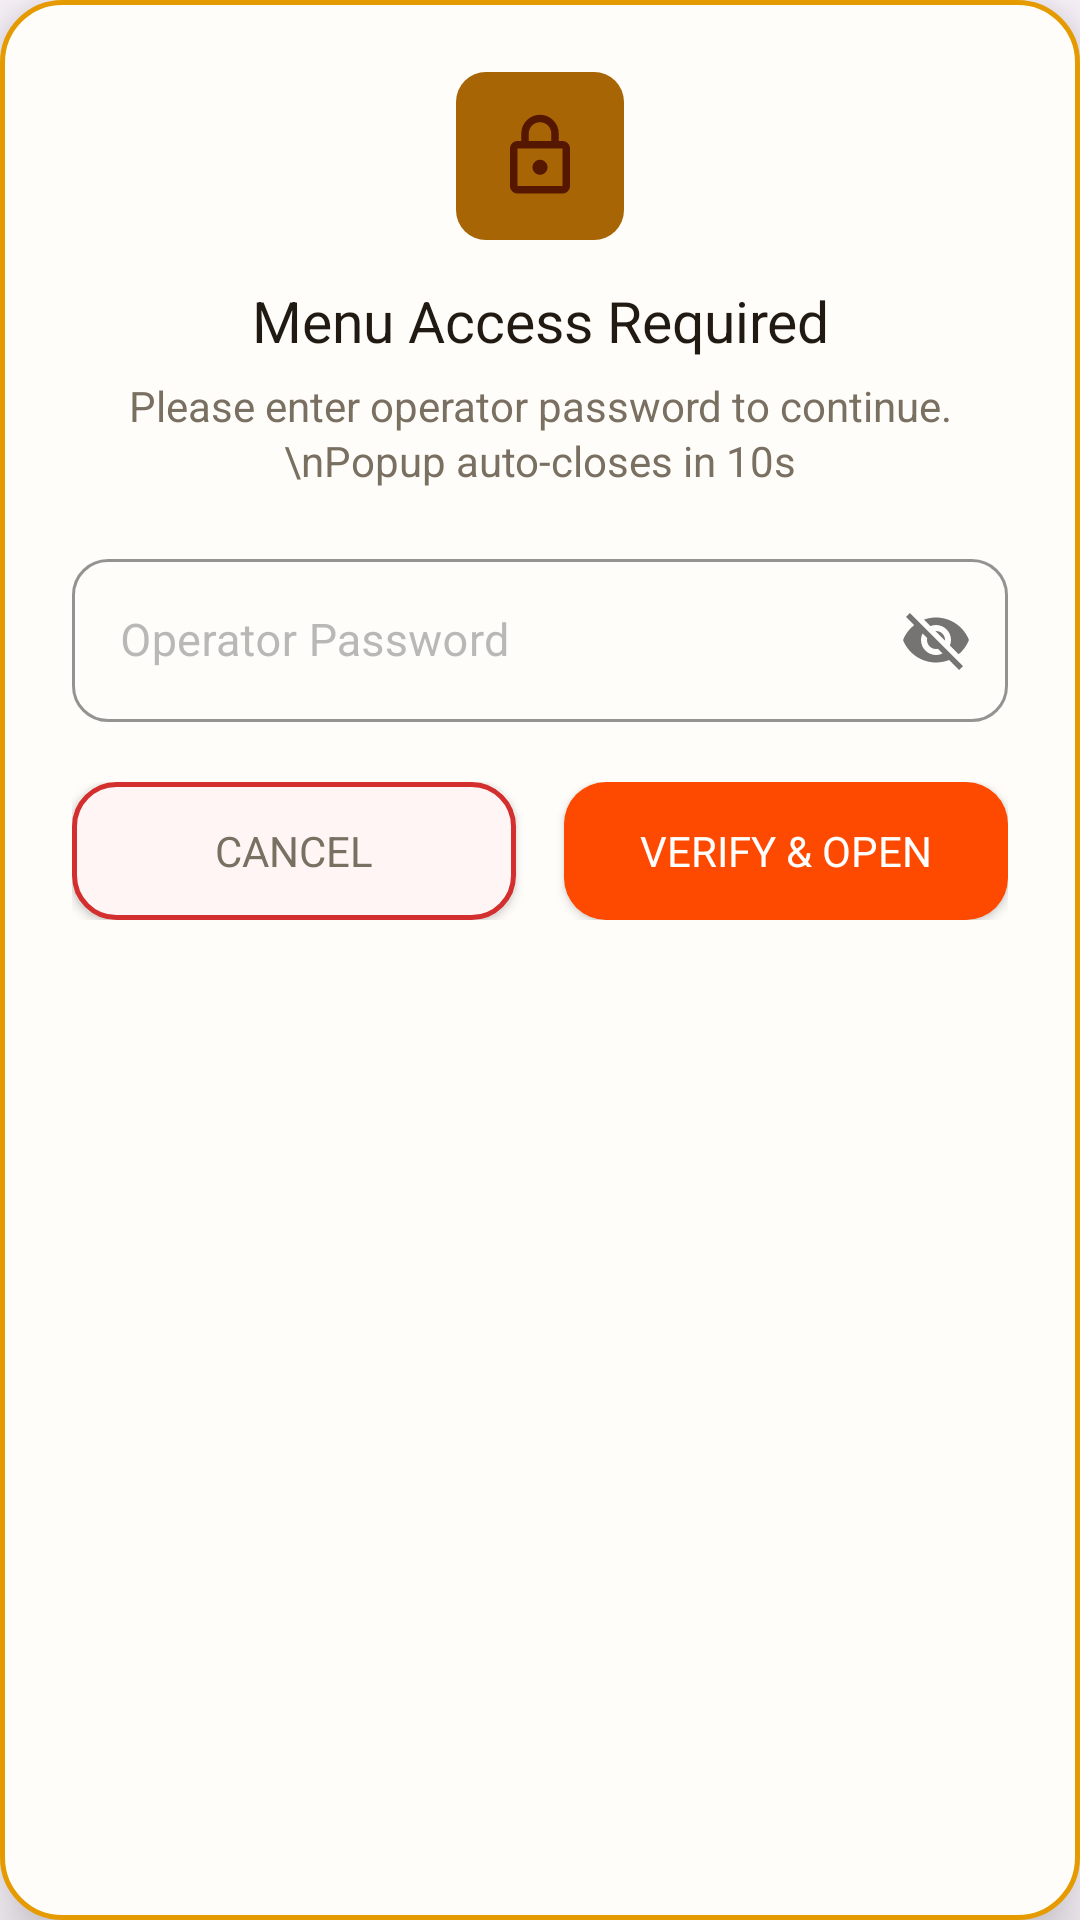

Where to tap for icons on this 1080px×1920px app screen, as (x,y):
Menu Lock Icon: (540,154)
